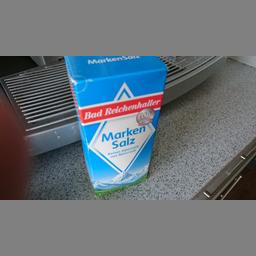spices: (62, 54, 167, 196)
